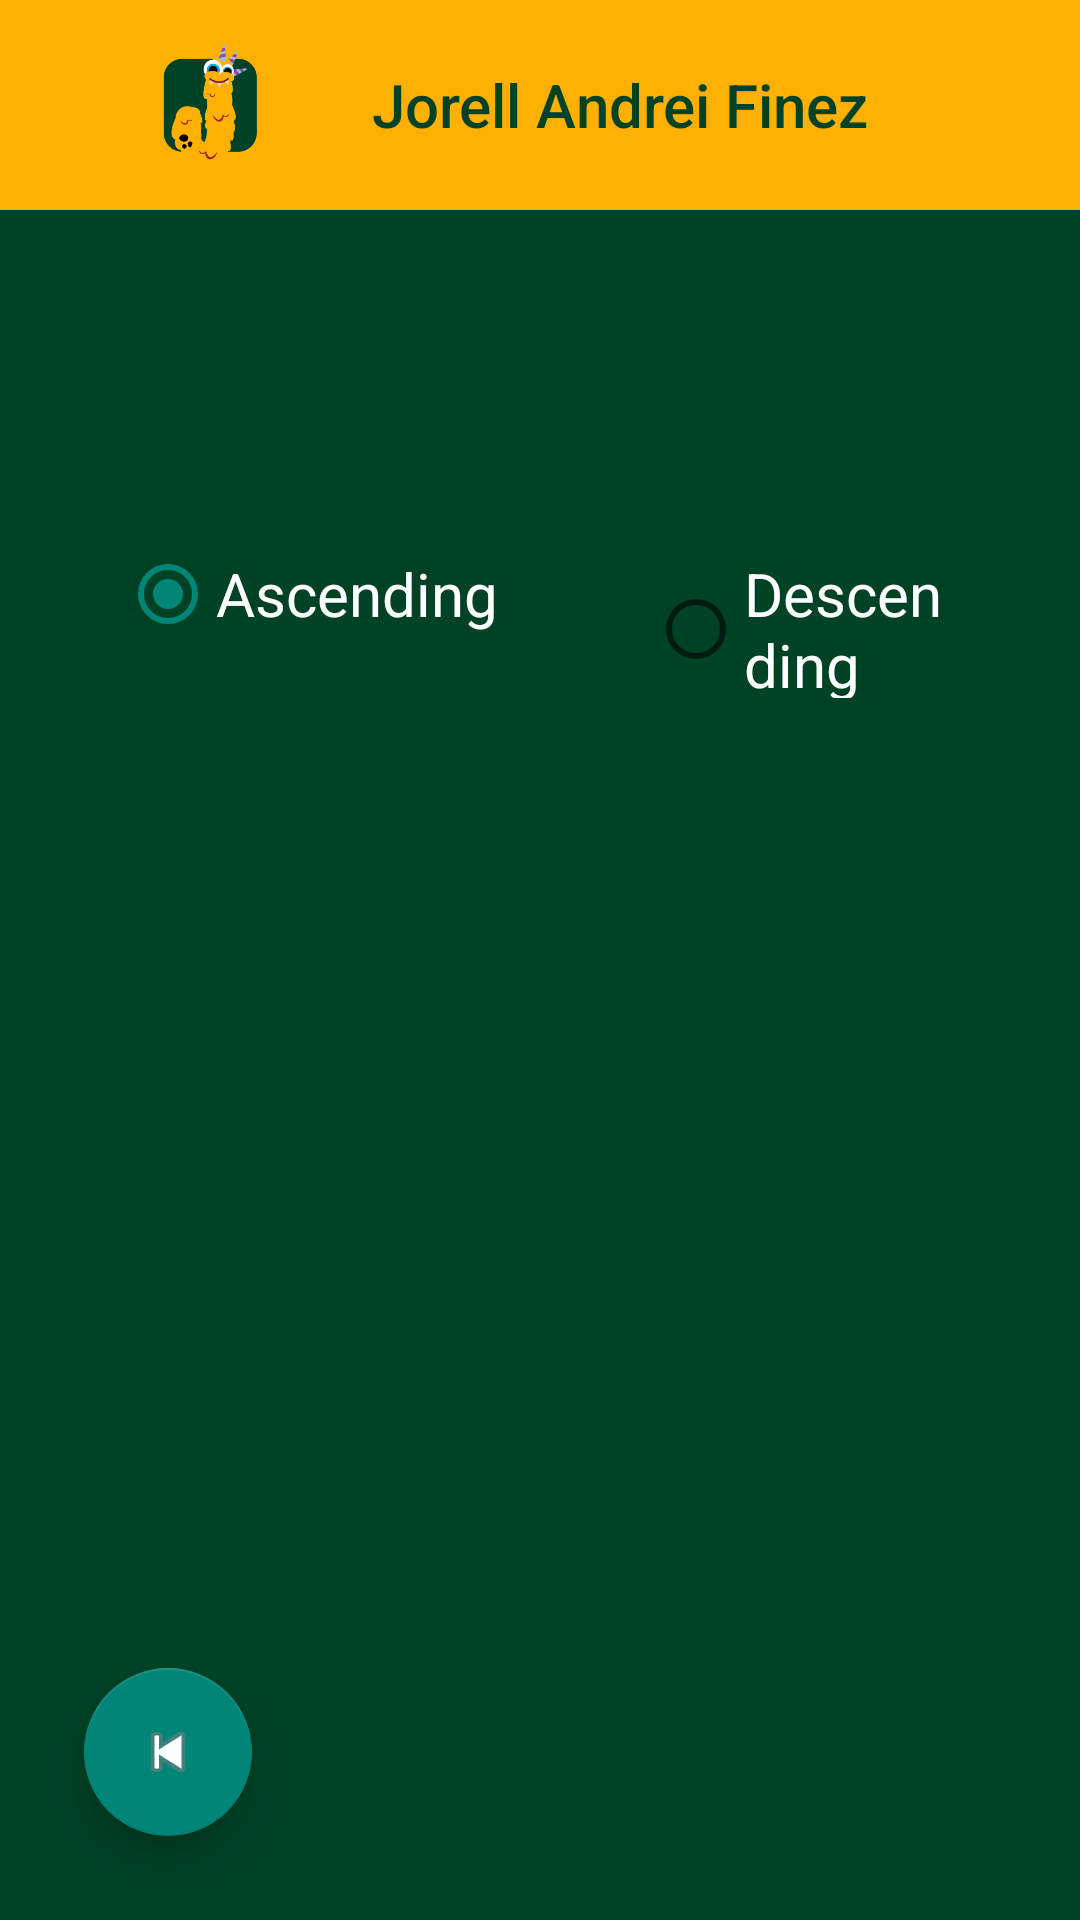

Screen size 1080px×1920px. Icon name, then its center in pixels as [x,y]:
previous: [168,1752]
